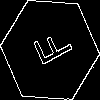F: (25, 25, 74, 72)
